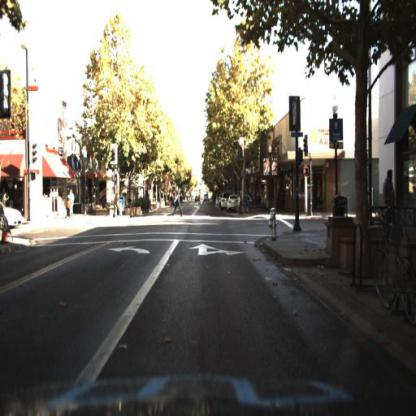car: (1, 190, 26, 235), (228, 191, 241, 216), (228, 194, 241, 215), (222, 191, 229, 215)
pedestrian: (170, 187, 185, 223), (62, 190, 74, 221), (277, 181, 287, 212), (68, 187, 77, 220), (215, 189, 224, 214), (70, 186, 78, 211), (214, 191, 222, 213)
trafficLight-Red: (110, 143, 121, 174), (238, 136, 246, 165), (108, 146, 117, 167)
